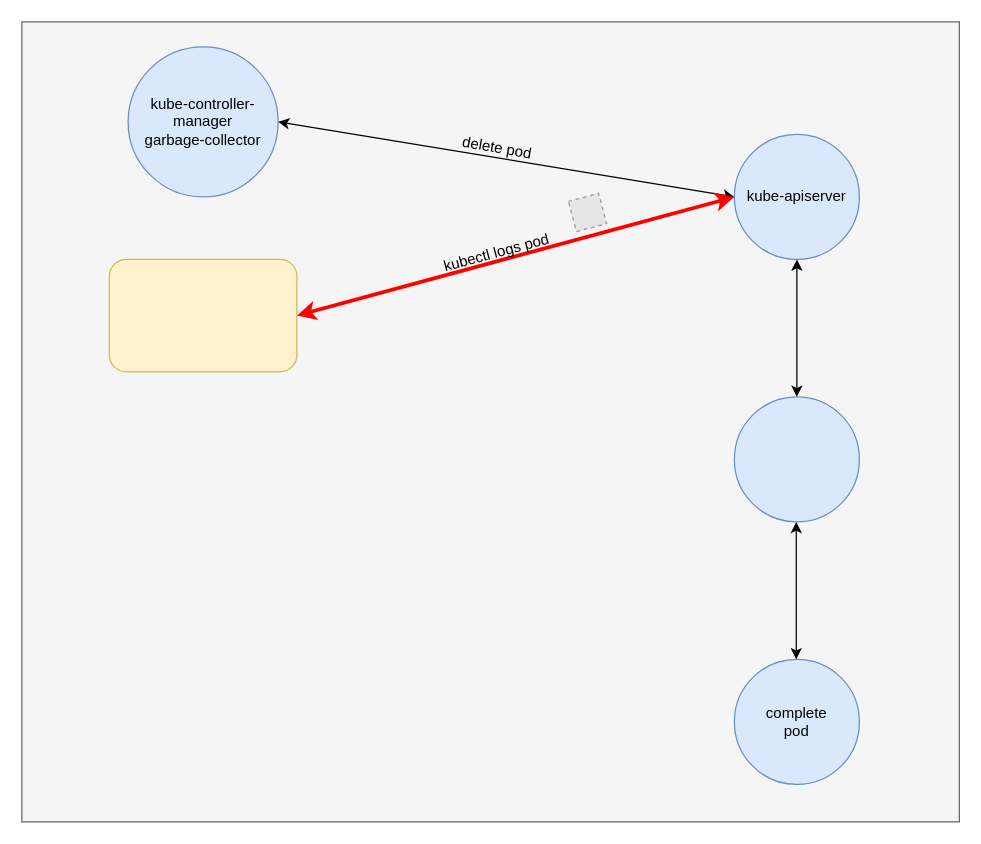
Some shapes in this 981 by 844 pixel diagram are drawn without their labels. Grey dashed boxes stand in for pictures. Here are the shapes that lost their labels. From the top down, the box of each, then its label:
(108, 258, 297, 372): GPS
(733, 396, 859, 522): kubelet
